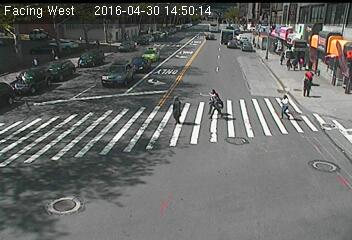neg: (96, 39, 135, 91), (54, 141, 92, 191), (122, 154, 158, 202), (297, 148, 329, 191), (56, 62, 79, 93), (235, 142, 255, 168), (198, 172, 215, 195)
pos: (164, 94, 190, 128), (274, 90, 299, 124), (204, 89, 225, 117), (301, 73, 318, 97), (276, 49, 287, 63), (305, 64, 315, 78), (285, 58, 295, 71)
